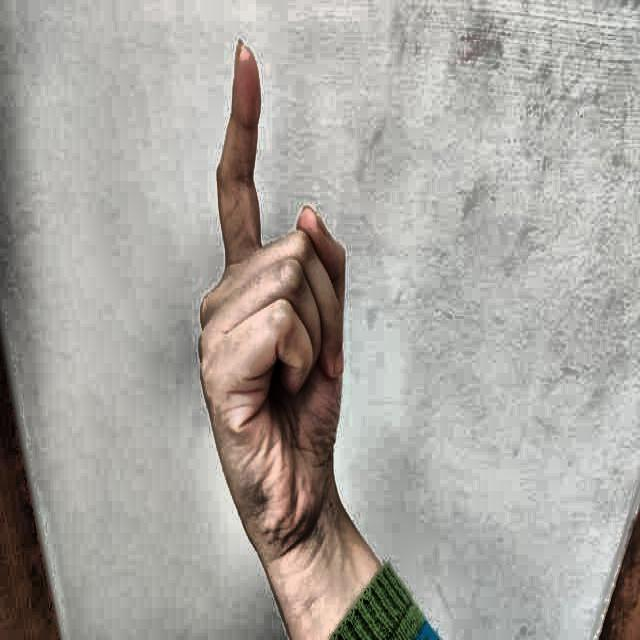U: (174, 30, 362, 559)
